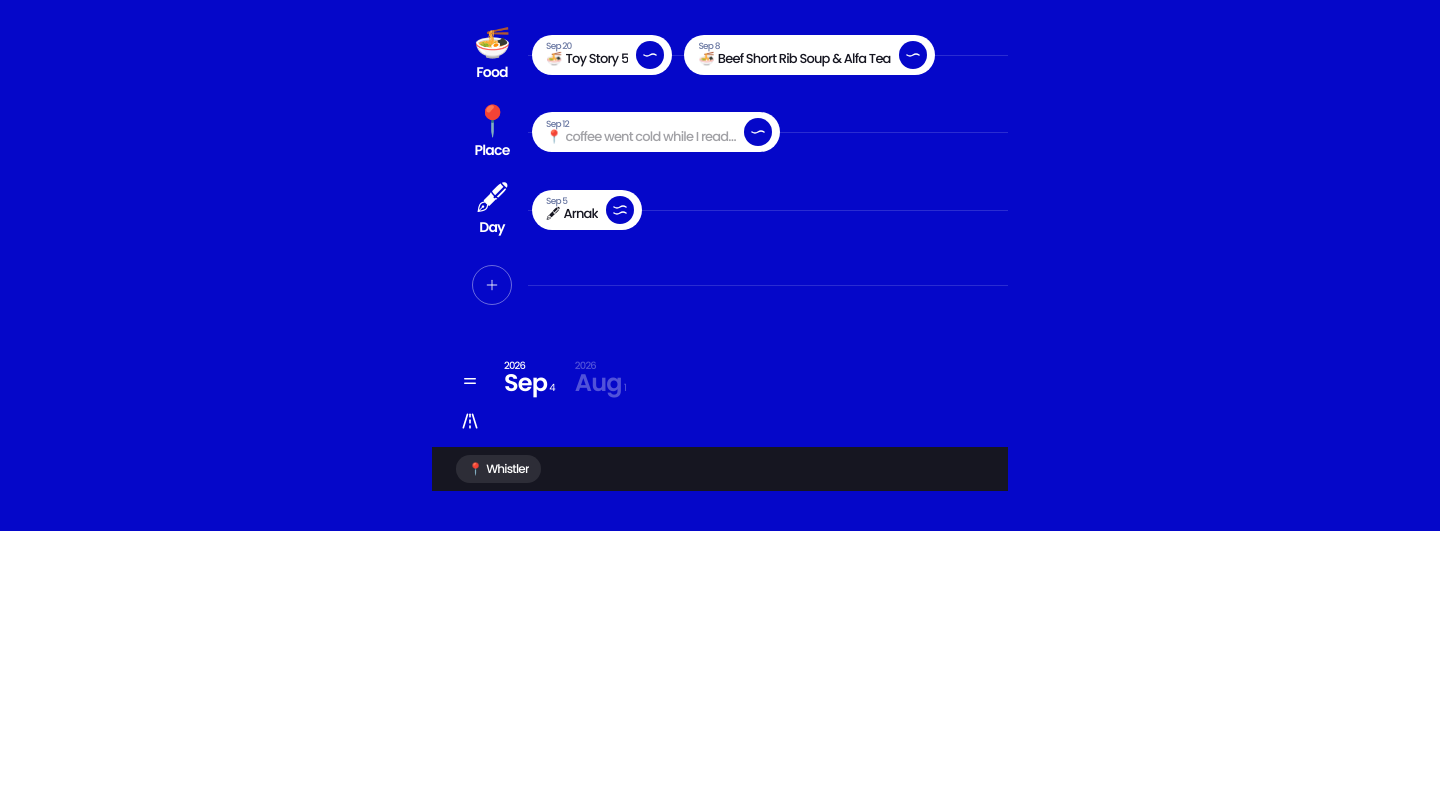
Test: the lanes sheet from the lane icon › deletes an empty lane at once, and brings one with records back with the refusal
Click the button named "Edit lanes": click(470, 420) top-left (452, 402), bottom-right (488, 438)
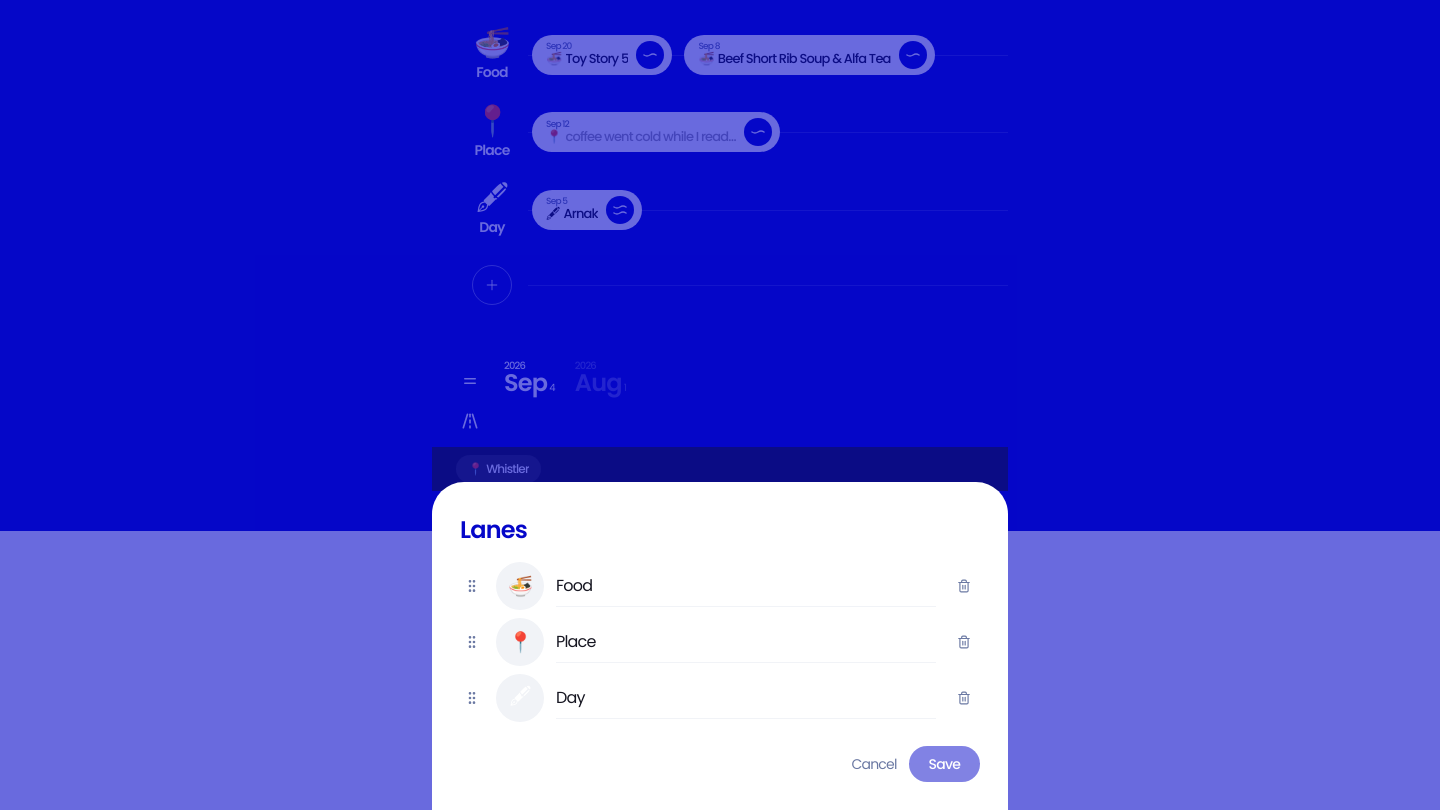
Click the button named "Delete Day": click(964, 698) top-left (948, 682), bottom-right (980, 714)
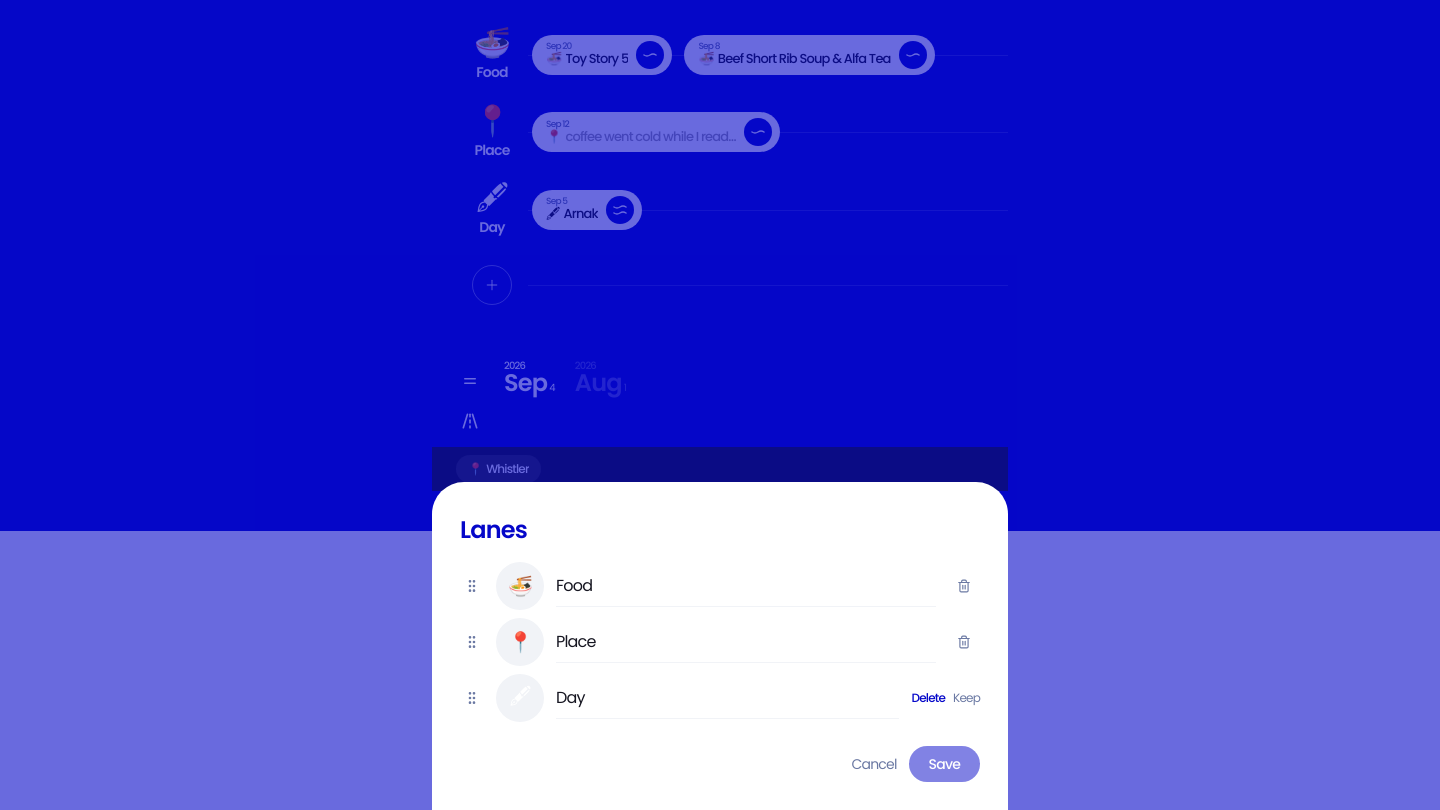
Click the button "Delete": click(928, 698) top-left (912, 690), bottom-right (945, 706)
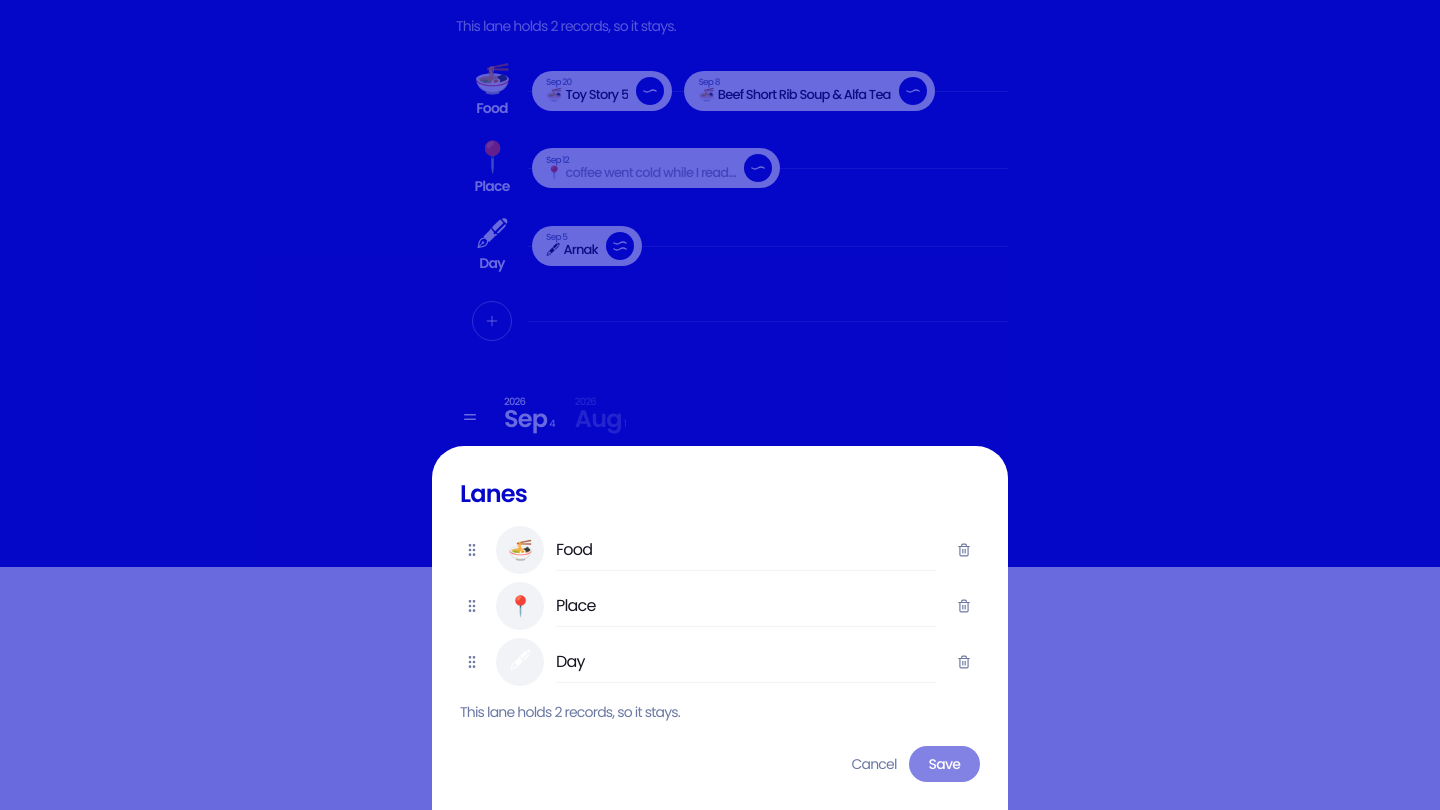
Now the 3rd list item is shown, box top-left (460, 638), bottom-right (980, 686)
Now the text "This lane holds 2 records, so it stays." is shown, box top-left (460, 702), bottom-right (680, 722)
